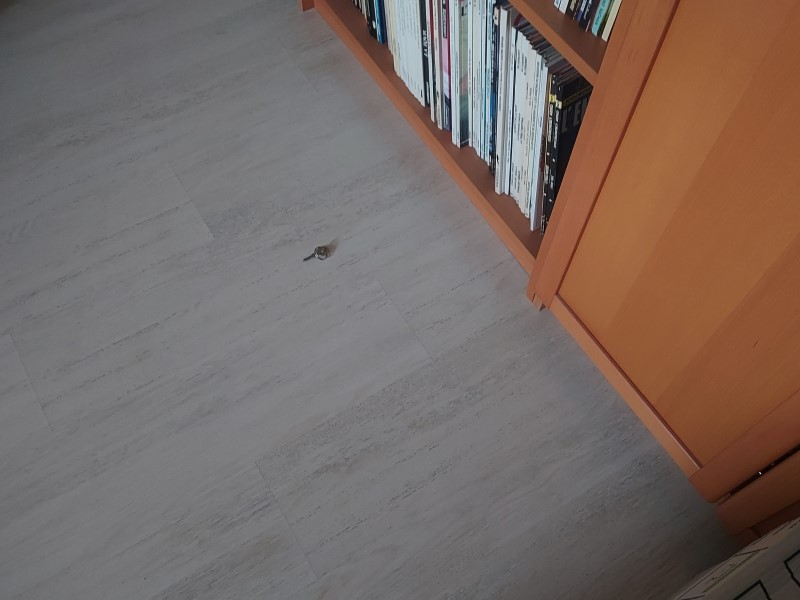key: (302, 245, 328, 260)
